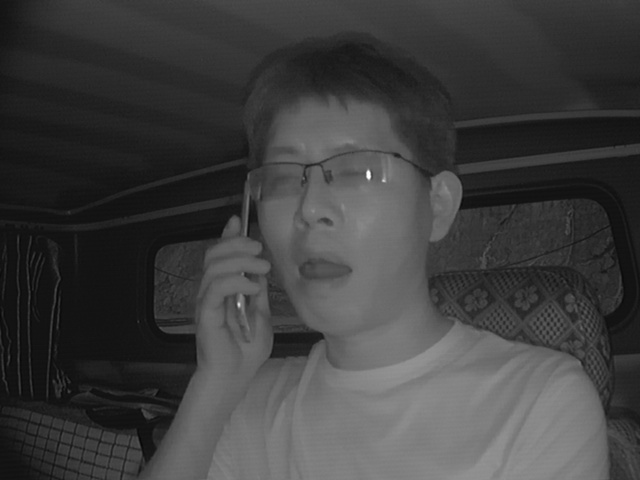hand: (179, 219, 282, 373)
